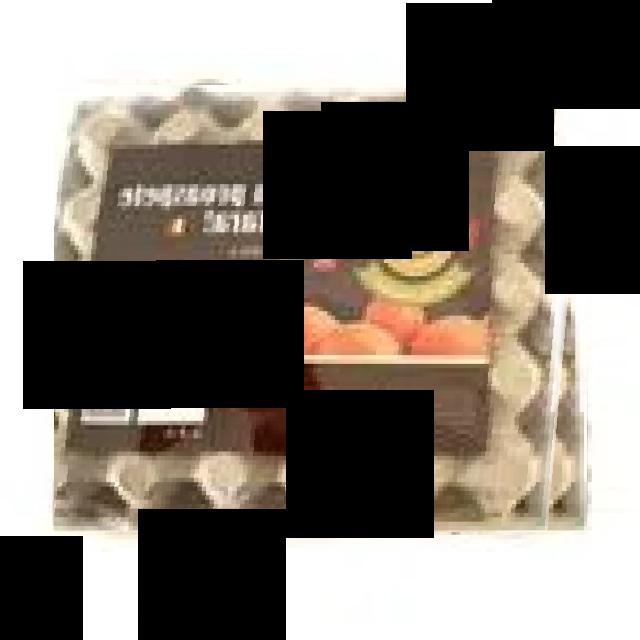eggs: (54, 85, 587, 532)
